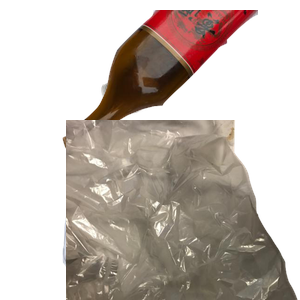glass: (60, 10, 300, 163)
metal: (99, 70, 236, 176)
plastic: (60, 141, 263, 300)
trash: (66, 120, 300, 300)
